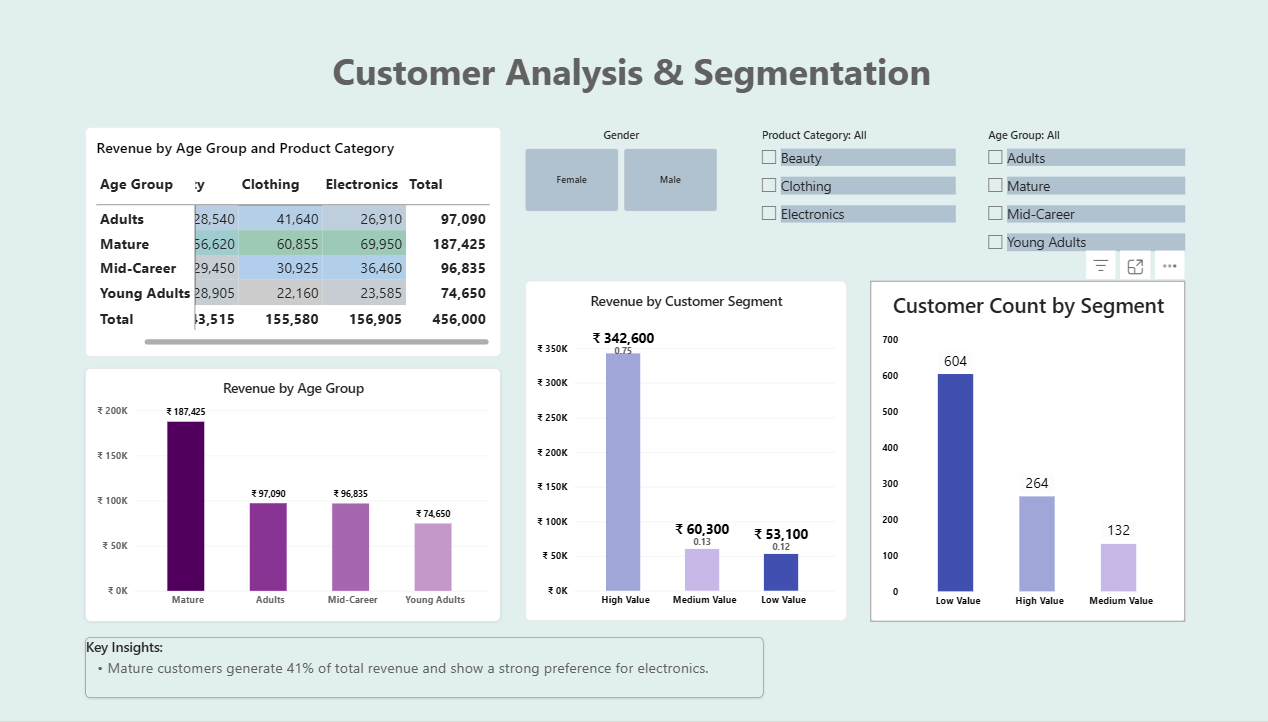

Layout of this report page (visuals, bound fields, positions):
{"tool":"powerbi","page":{"name":"Customer Analysis","canvas":[1920,1080],"ordinal":2},"visuals":[{"type":"pivotTable","title":"Revenue by Age Group and Product Category","fields":{"Columns":["retail_sales_dataset.Product Category"],"Rows":["retail_sales_dataset.Age Group"],"Values":["retail_sales_dataset.Total Revenue"]},"box":[150,200,616,340],"z":1},{"type":"clusteredColumnChart","title":"Revenue by Age Group","fields":{"Category":["retail_sales_dataset.Age Group"],"Y":["retail_sales_dataset.Total Revenue"]},"box":[150,557.5,615,375],"z":3},{"type":"slicer","fields":{"Values":["retail_sales_dataset.Age Group"]},"box":[1480,200,300,247.5],"z":4},{"type":"advancedSlicerVisual","fields":{"Values":["retail_sales_dataset.Gender"]},"box":[802.5,200,285,125],"z":5},{"type":"slicer","fields":{"Values":["retail_sales_dataset.Product Category"]},"box":[1145,200,295,187.5],"z":6},{"type":"textbox","title":"Key Insights:","box":[150,955,1005,90],"z":7},{"type":"textbox","box":[456.7,80,1130,96.7],"z":8},{"type":"columnChart","title":" Customer Count by Segment","fields":{"Category":["retail_sales_dataset.Customer Segement"],"Y":["CountNonNull(retail_sales_dataset.Customer ID)"]},"box":[1312.5,427.5,467.5,505],"z":9},{"type":"columnChart","title":"Revenue by Customer Segment","fields":{"Category":["retail_sales_dataset.Customer Segement"],"Y":["retail_sales_dataset.Total Revenue"]},"box":[802,428,476,504],"z":10}]}

Visuals, with their boxes in screenshot pixels (x1, y1, x2, y2), scaled from the page's 1920x1080 canvas onto the 1268x722 screenshot:
"Revenue by Age Group and Product Category" pivotTable: 99 134 506 361
"Revenue by Age Group" clusteredColumnChart: 99 373 505 623
slicer - retail_sales_dataset.Age Group: 977 134 1176 299
advancedSlicerVisual - retail_sales_dataset.Gender: 530 134 718 217
slicer - retail_sales_dataset.Product Category: 756 134 951 259
"Key Insights:" textbox: 99 638 763 699
textbox: 302 53 1048 118
" Customer Count by Segment" columnChart: 867 286 1176 623
"Revenue by Customer Segment" columnChart: 530 286 844 623
